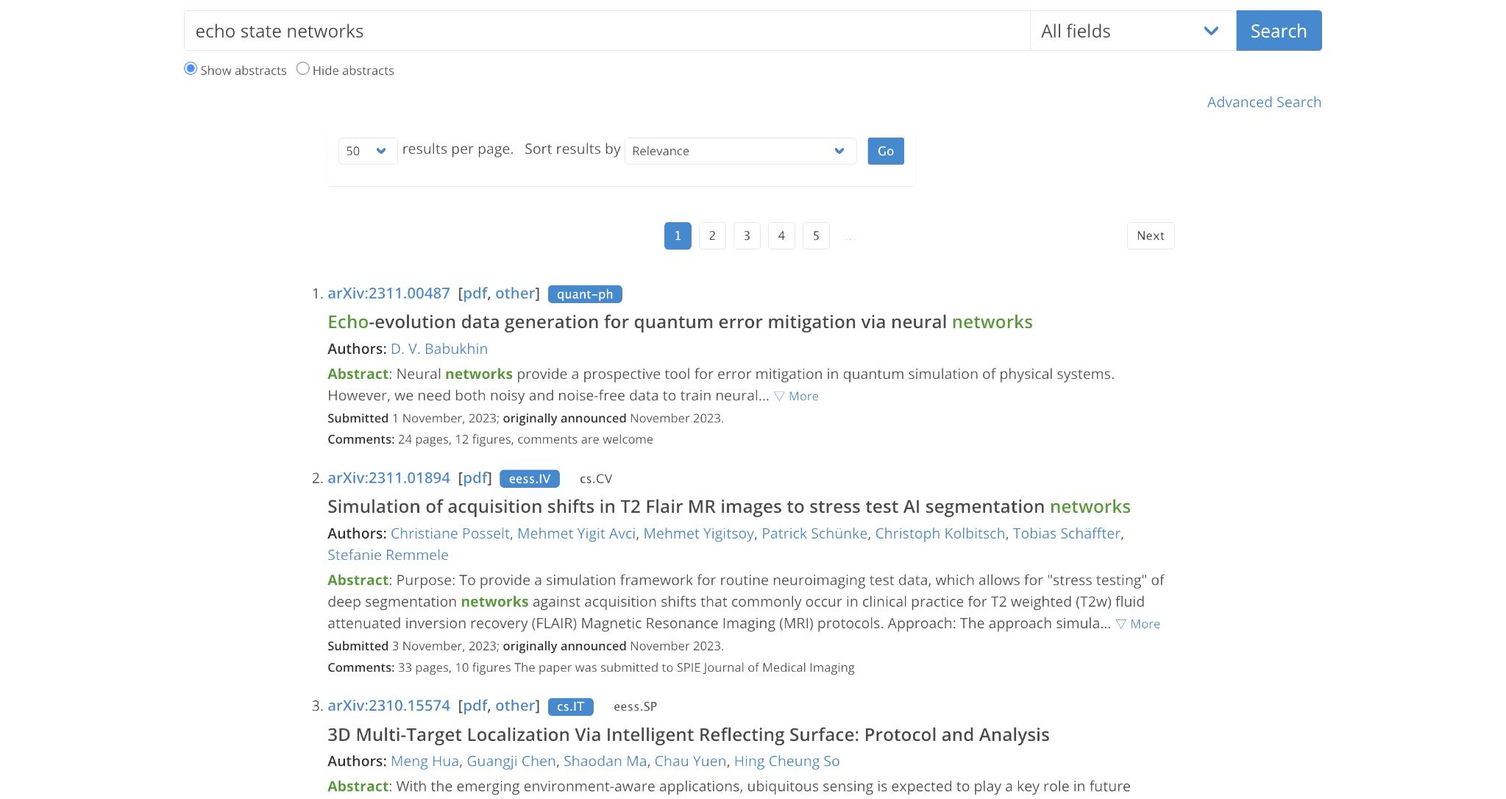webelement: (184, 9, 1322, 125), (328, 568, 1164, 631), (327, 522, 1178, 564), (184, 10, 1030, 49), (327, 362, 1115, 403), (327, 217, 1178, 252), (328, 775, 1167, 799), (327, 722, 1178, 745), (327, 310, 1178, 332), (327, 494, 1178, 516), (327, 337, 1178, 358), (327, 749, 1178, 770), (327, 657, 1178, 676), (327, 408, 1178, 426), (327, 430, 1178, 448), (327, 636, 1178, 654), (1030, 10, 1237, 49), (397, 658, 853, 674), (624, 136, 856, 164), (397, 430, 652, 446), (1236, 10, 1322, 49), (327, 281, 450, 303), (875, 523, 1005, 543), (327, 467, 450, 488), (327, 694, 450, 715), (327, 544, 448, 564), (390, 523, 509, 543), (518, 523, 636, 543), (1207, 91, 1322, 111), (642, 523, 753, 543), (1012, 523, 1120, 543), (761, 523, 867, 543), (502, 408, 626, 425), (502, 636, 626, 653), (734, 750, 839, 770), (401, 138, 508, 157), (1049, 493, 1130, 518), (390, 338, 487, 358), (951, 309, 1031, 333), (524, 138, 621, 157), (454, 281, 544, 301), (454, 695, 544, 715), (466, 750, 555, 770), (184, 60, 286, 77), (338, 136, 398, 164), (295, 60, 393, 77), (564, 750, 646, 770), (654, 750, 725, 770), (547, 284, 621, 303), (390, 750, 458, 770), (1127, 222, 1175, 249), (444, 362, 512, 381), (460, 590, 528, 609), (328, 775, 389, 795), (328, 362, 389, 381), (328, 569, 389, 588), (604, 696, 665, 715), (327, 338, 386, 357), (327, 522, 386, 541), (327, 750, 386, 769), (327, 430, 395, 446), (327, 658, 395, 674), (500, 469, 558, 487), (328, 408, 389, 425), (328, 636, 389, 653), (867, 136, 903, 164), (328, 309, 368, 333), (570, 469, 621, 487), (494, 281, 534, 303), (547, 696, 592, 715), (494, 694, 534, 715), (772, 387, 817, 404), (1115, 615, 1160, 632), (732, 222, 760, 249), (802, 222, 830, 249), (664, 222, 691, 249), (699, 222, 726, 249), (768, 222, 795, 249), (837, 222, 864, 249), (462, 281, 487, 303), (462, 467, 487, 488), (462, 694, 487, 715), (184, 60, 197, 74), (296, 60, 309, 74), (327, 798, 395, 799)
